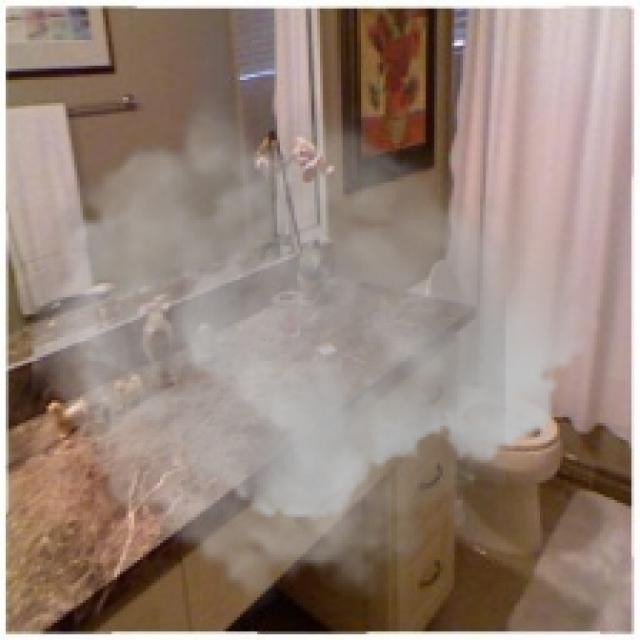smoke: (31, 86, 600, 617)
